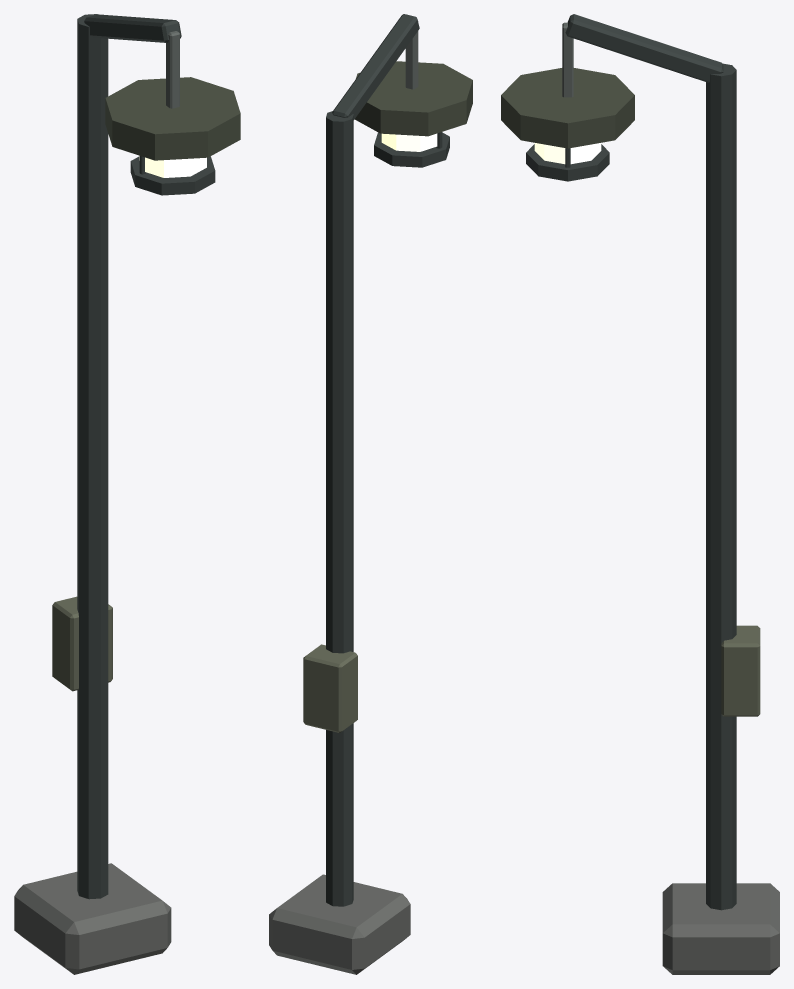
File: StreetLamp01.fbx
The picture shows the model from 3 angles, left to right: view 1: azimuth 30°, elevation 25°; view 2: azimuth 150°, elevation 25°; view 3: azimuth 270°, elevation 25°; orthographic projection. The views are drawn at different scales.
Parts seen in each view (by area): view 1: Post, Concrete_Foot, Shade, Service_Box, Bent_Arm, Lamp_Base, Lamp_Hanger, Warm_Lens; view 2: Post, Concrete_Foot, Shade, Service_Box, Bent_Arm, Lamp_Base, Warm_Lens, Lamp_Hanger; view 3: Post, Concrete_Foot, Shade, Bent_Arm, Service_Box, Lamp_Base, Warm_Lens, Lamp_Hanger.
Boxes of the visible parts, box(x1,y1,x2,y2) form: Post: box(77, 14, 108, 899); Concrete_Foot: box(14, 863, 171, 974); Shade: box(105, 77, 240, 160); Service_Box: box(52, 596, 112, 691); Bent_Arm: box(84, 14, 181, 42); Lamp_Base: box(130, 156, 215, 195); Lamp_Hanger: box(166, 31, 179, 108); Warm_Lens: box(139, 156, 206, 177); Post: box(326, 111, 353, 906); Concrete_Foot: box(269, 874, 410, 974); Shade: box(354, 61, 472, 136); Service_Box: box(303, 644, 357, 732); Bent_Arm: box(332, 14, 419, 119); Lamp_Base: box(374, 132, 449, 167); Warm_Lens: box(381, 133, 437, 151); Lamp_Hanger: box(405, 21, 418, 89); Post: box(706, 63, 736, 910); Concrete_Foot: box(662, 883, 779, 974); Shade: box(501, 68, 634, 148); Bent_Arm: box(565, 14, 723, 82); Service_Box: box(721, 625, 760, 716); Lamp_Base: box(526, 144, 609, 181); Warm_Lens: box(534, 143, 601, 164); Lamp_Hanger: box(562, 22, 573, 97).
Size of the model in its own units: 48 by 371 by 100.
